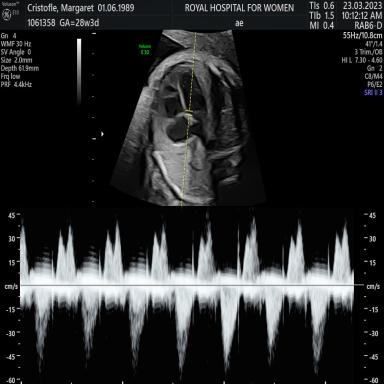Ultrasound-Waves: (26, 208, 353, 384)
